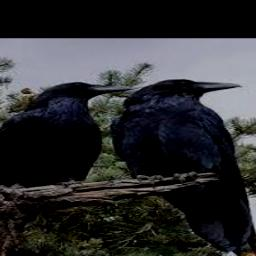Crow: (110, 79, 256, 256), (0, 82, 132, 189)
